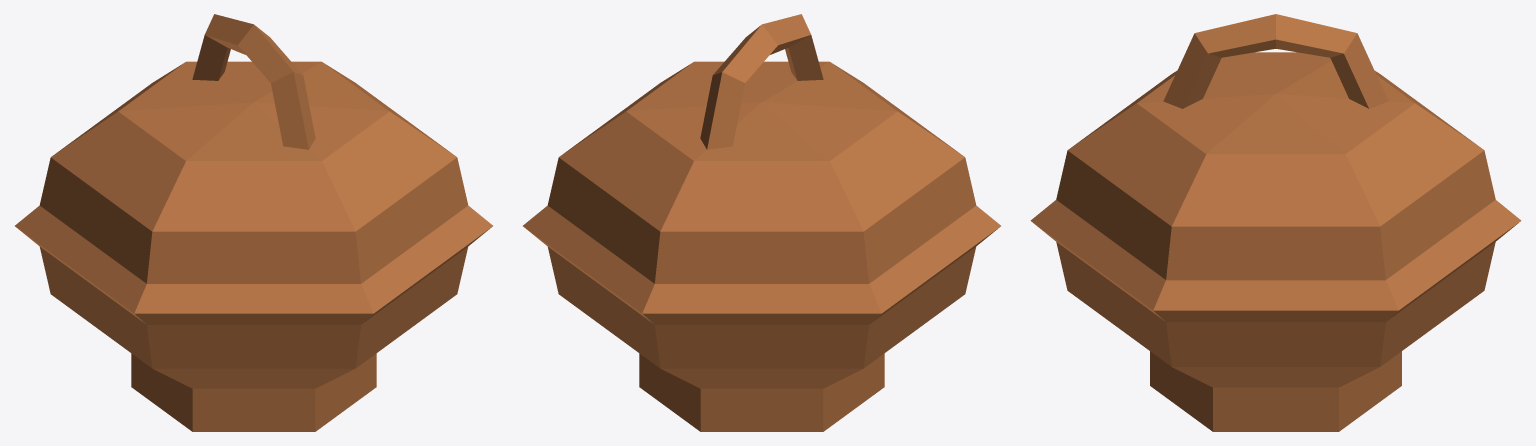
The model's file is SM_Prop_Copper_Pot_Small_01.fbx.
3 renders of one model, left to right at view 1: azimuth 30°, elevation 25°; view 2: azimuth 150°, elevation 25°; view 3: azimuth 270°, elevation 25°, orthographic. The views are drawn at different scales.
Parts seen in each view (by area): view 1: SM_Prop_Copper_Pot_Small_01; view 2: SM_Prop_Copper_Pot_Small_01; view 3: SM_Prop_Copper_Pot_Small_01.
Boxes of the visible parts, x1=… form: SM_Prop_Copper_Pot_Small_01: x1=15, y1=14, x2=492, y2=431; SM_Prop_Copper_Pot_Small_01: x1=523, y1=14, x2=1000, y2=431; SM_Prop_Copper_Pot_Small_01: x1=1030, y1=14, x2=1521, y2=431.
Size of the model in its own units: 63.37 by 61.13 by 73.17.
